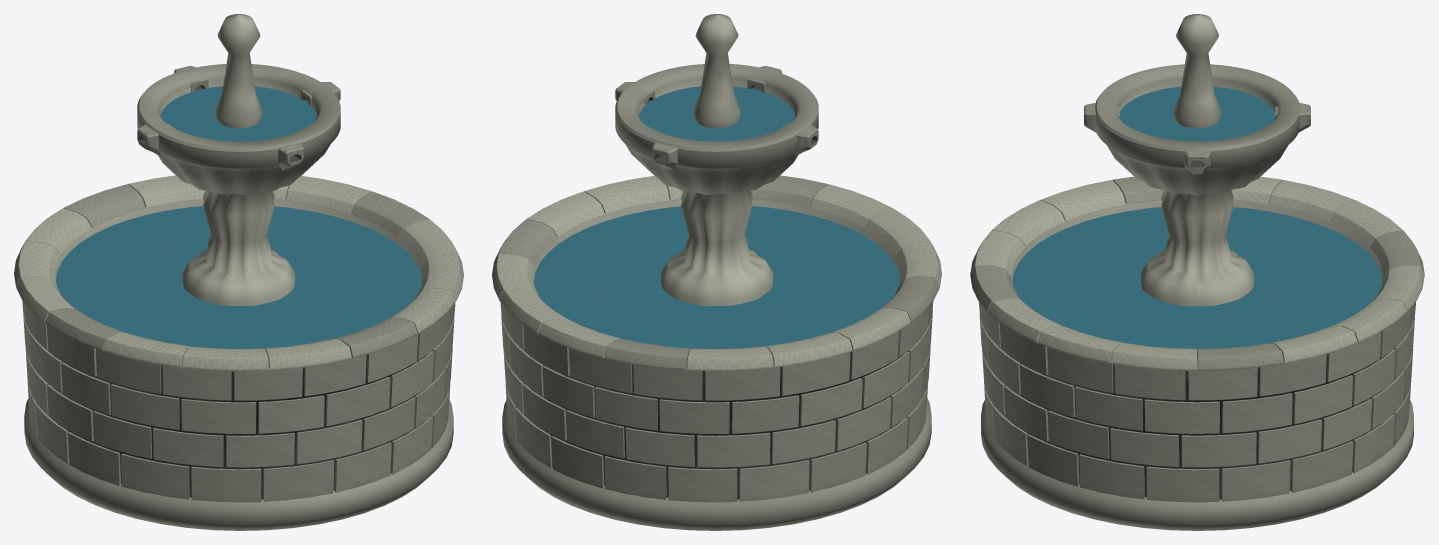
The model's file is fountain-crafted.glb.
The picture shows the model from 3 angles, left to right: view 1: azimuth 30°, elevation 25°; view 2: azimuth 150°, elevation 25°; view 3: azimuth 270°, elevation 25°; orthographic projection.
Parts seen in each view (by area): view 1: fountain crafted; view 2: fountain crafted; view 3: fountain crafted.
Boxes of the visible parts, left/top/right/bottom form: fountain crafted: left=14, top=14, right=463, bottom=530; fountain crafted: left=492, top=14, right=941, bottom=530; fountain crafted: left=970, top=14, right=1424, bottom=530.
Bounding box in the file's own units: 3.14 × 3.32 × 3.18.
1 material, 1 textured.
